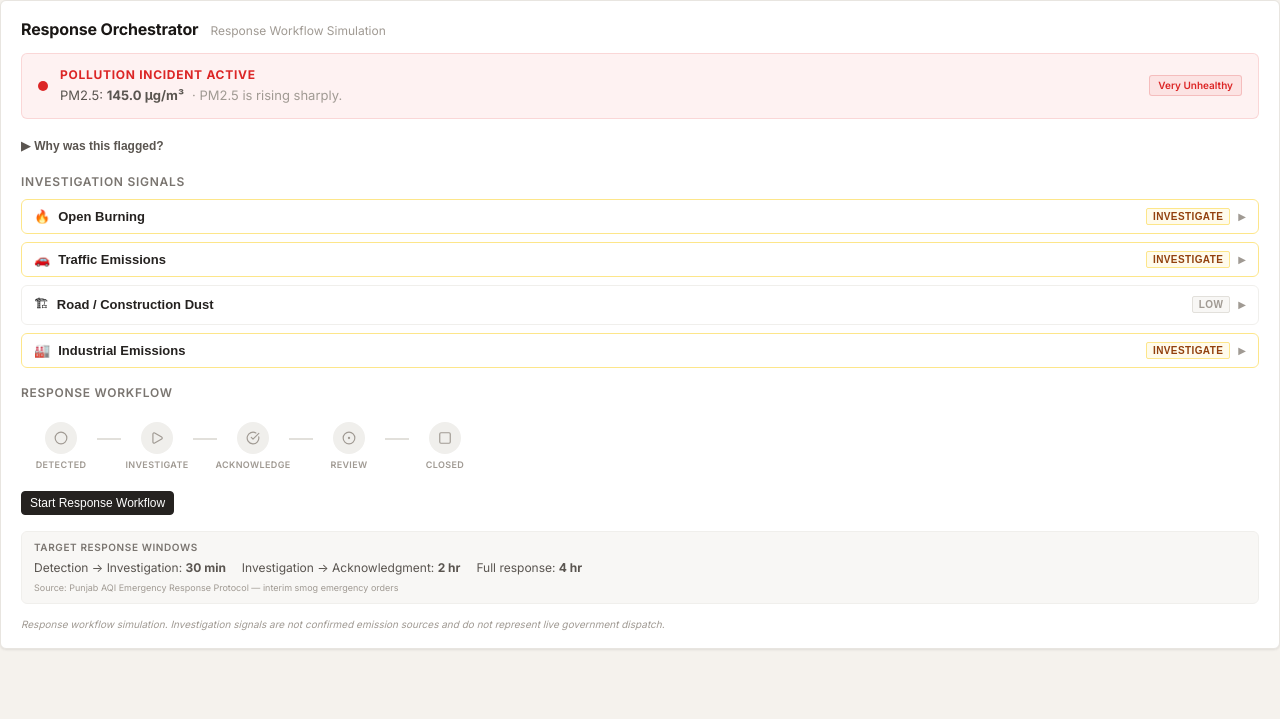
ResponseOrchestrator › evidence drawer › shows weather context variables in evidence drawer
Step 1. Click the button "▶ Why was this flagged?" → coordinates (92, 146), box 21,134 -> 164,156
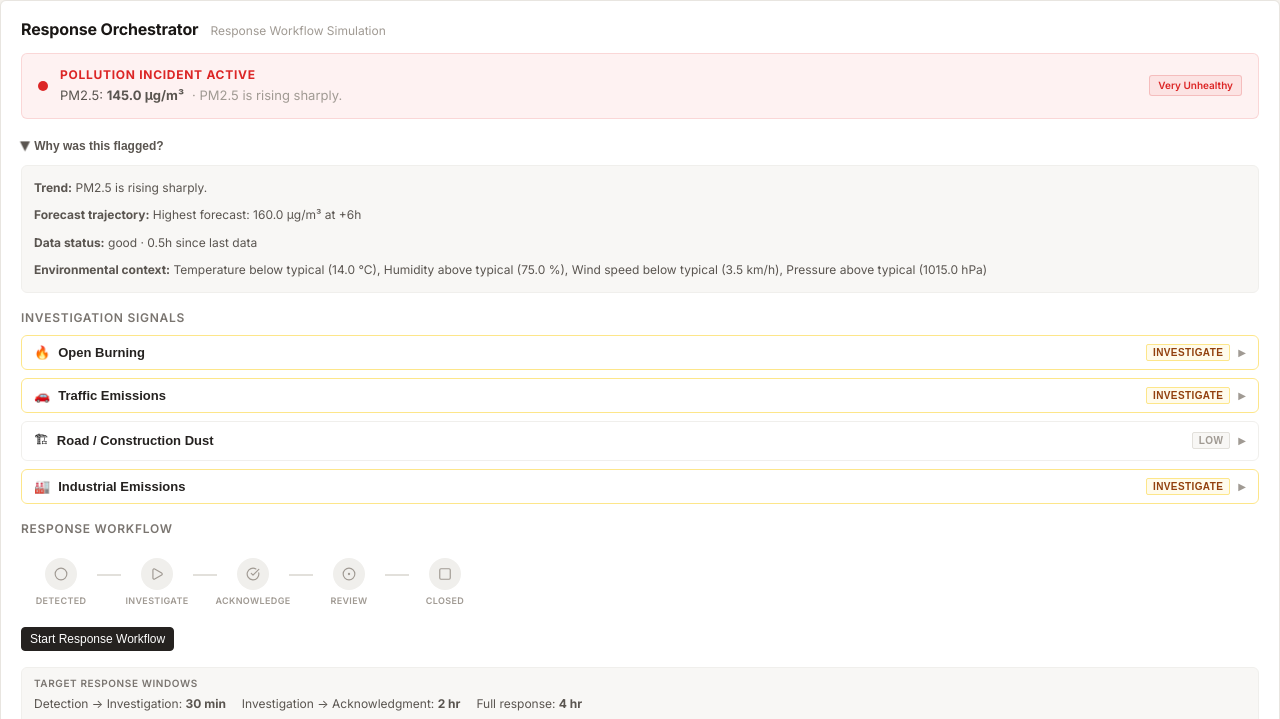
Expected: the text "Environmental context:" is shown, 34,262 -> 170,277
Expected: the text "above typical" is shown, 174,262 -> 987,277
